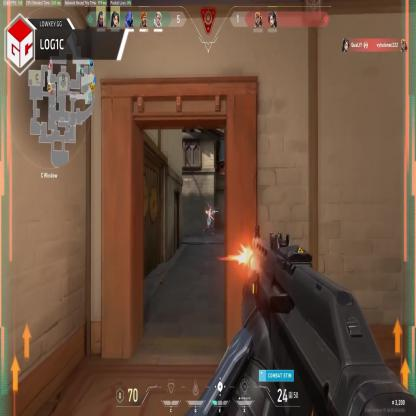enemy: (203, 204, 214, 235)
enemy_head: (209, 206, 212, 212)
